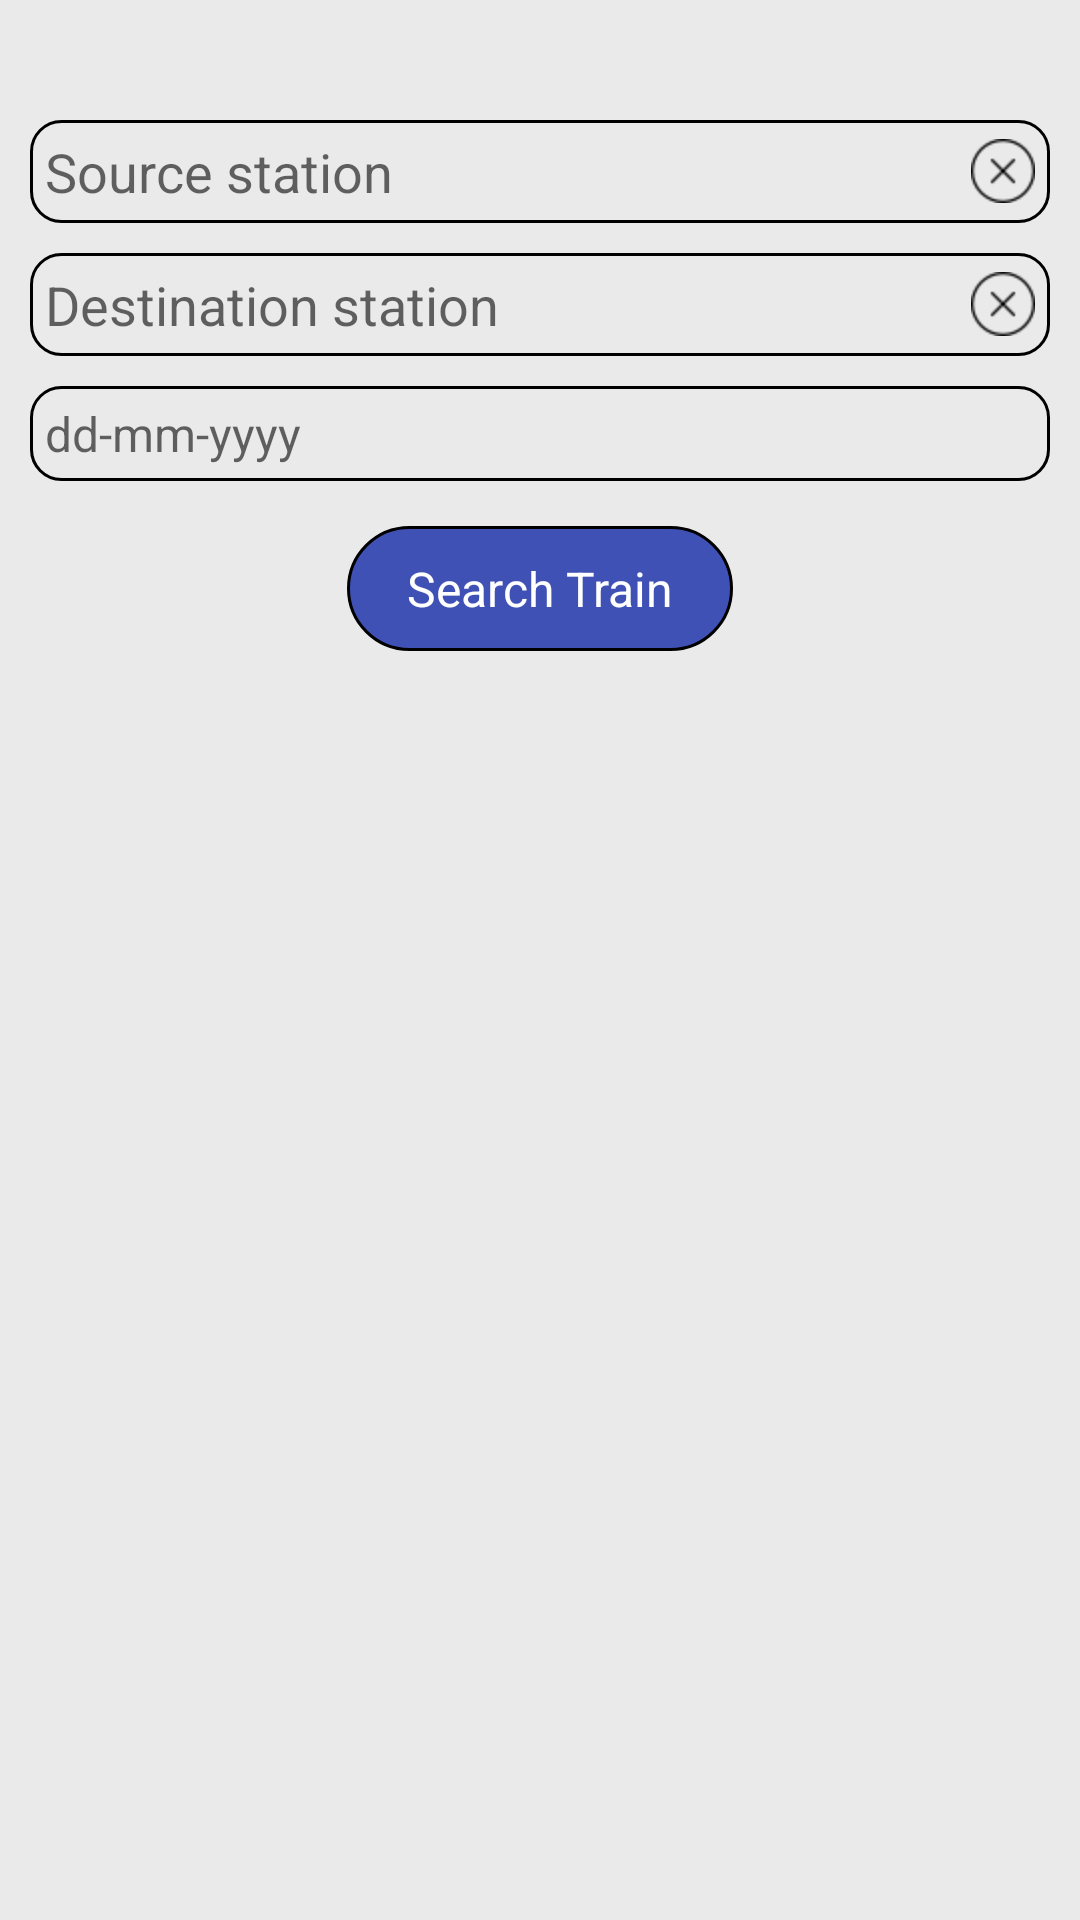

Where icons sit on this 1080w x 1920h app screen, as (x1, y1, x2, y2):
cross: (971, 139, 1035, 203), (971, 272, 1035, 336)
